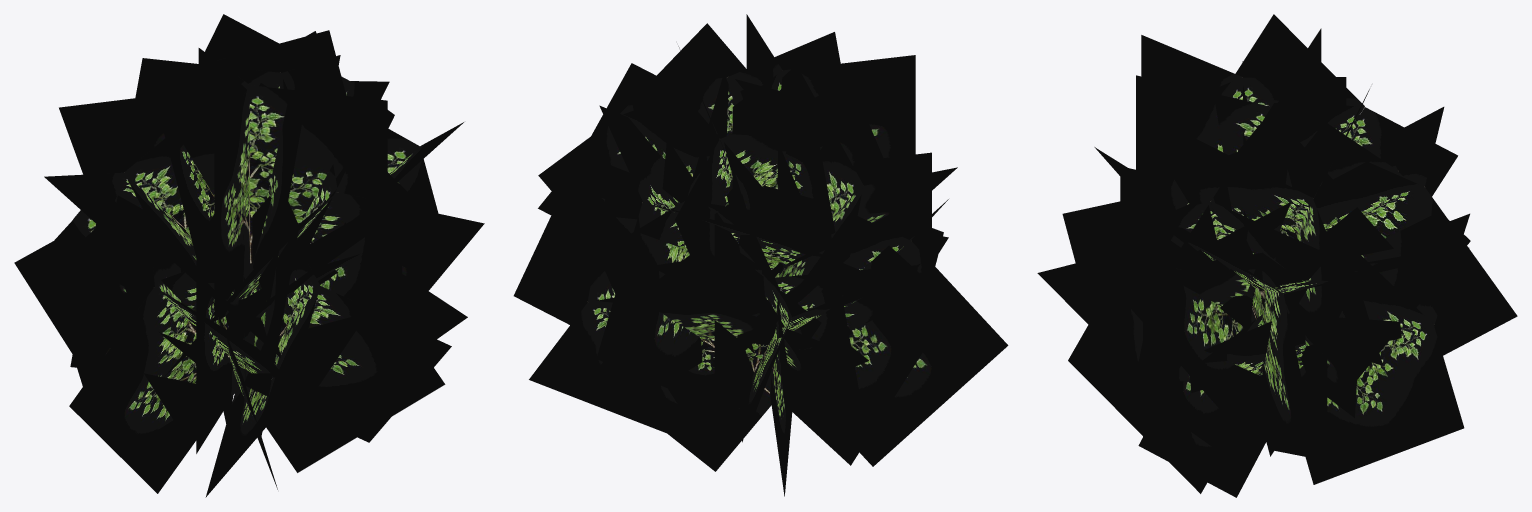
Rendered from Bush01.fbx.
3 views of the same model, side by side, from view 1: azimuth 30°, elevation 25°; view 2: azimuth 150°, elevation 25°; view 3: azimuth 270°, elevation 25° (orthographic). The views are drawn at different scales.
Visible parts, largest first — view 1: Fiscus128; view 2: Fiscus128; view 3: Fiscus128.
Boxes of the visible parts, x1,y1,x2,y2 form: Fiscus128: [14, 14, 484, 497]; Fiscus128: [513, 14, 1008, 496]; Fiscus128: [1037, 14, 1517, 497].
Size of the model in its own units: 28.7 by 25.65 by 26.6.
